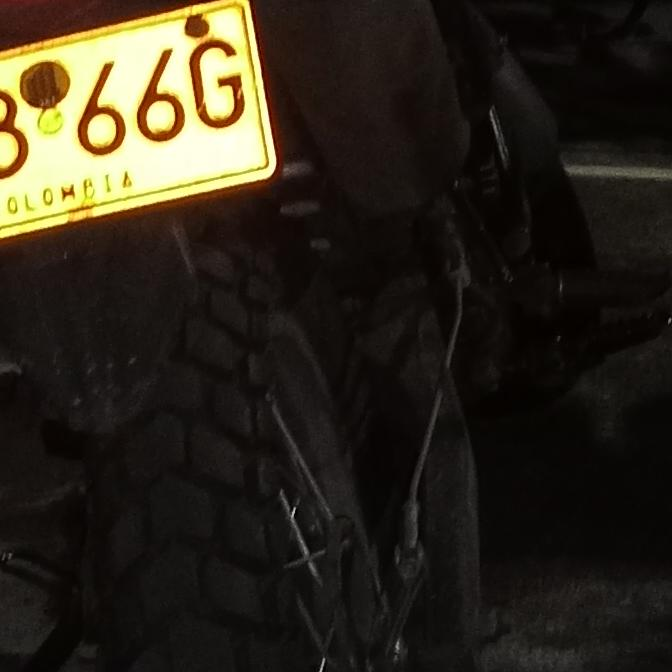plates: (0, 0, 276, 240)
